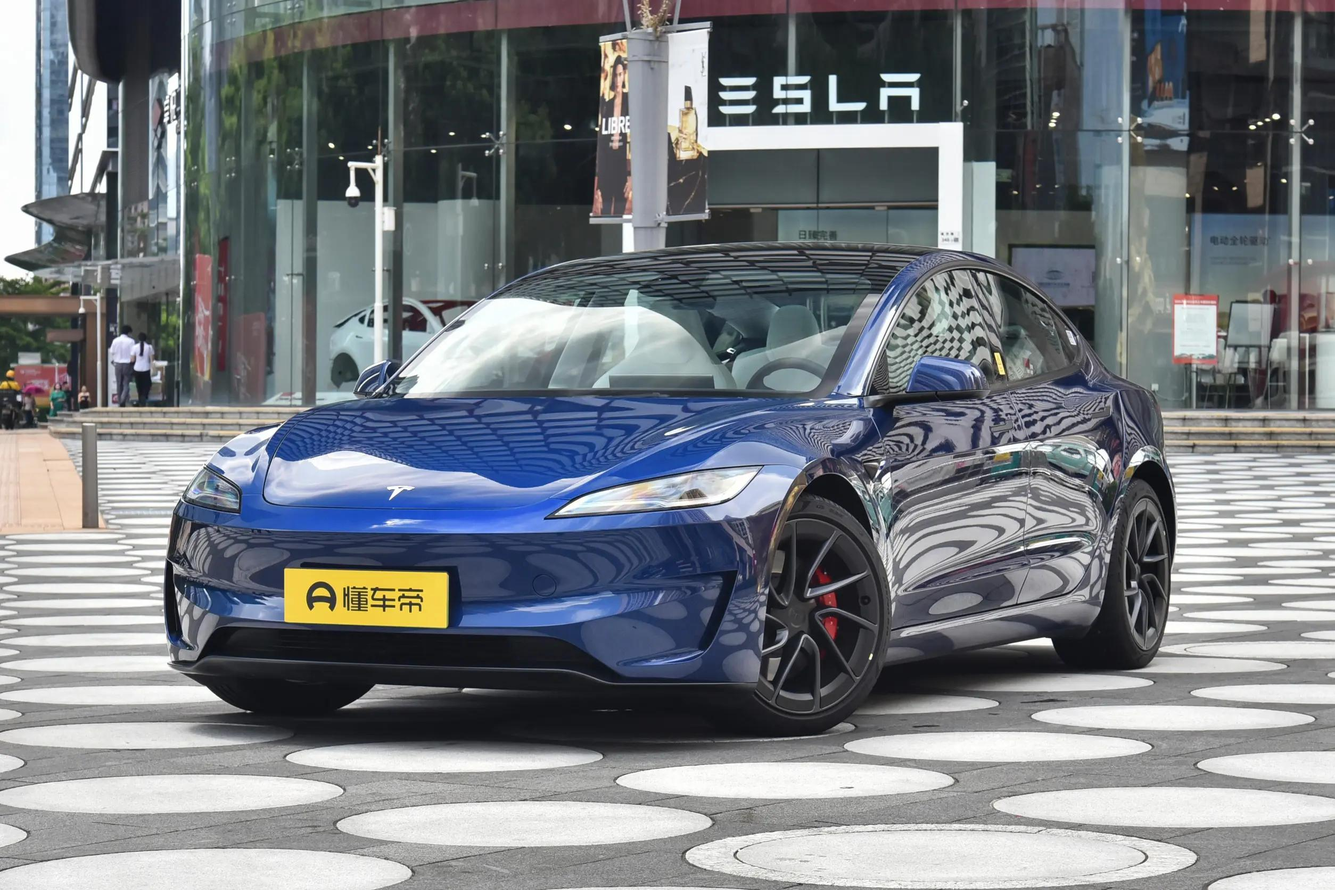Tesla: (387, 485, 415, 500)
